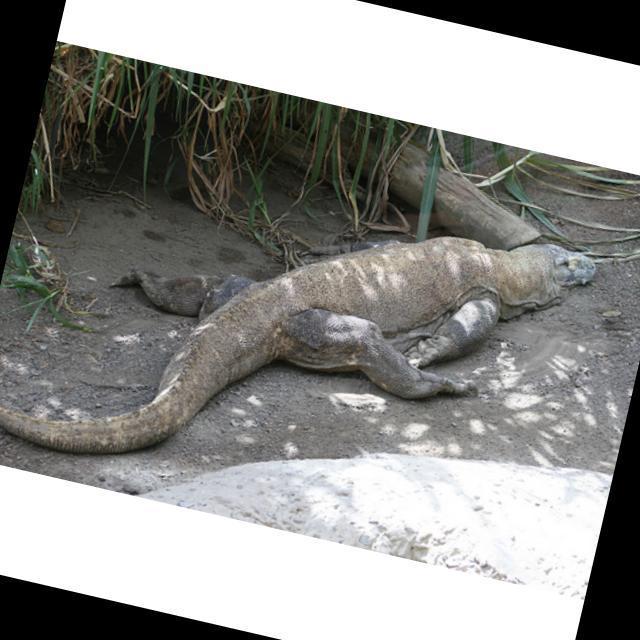KomodoDragon: (0, 122, 603, 562)
